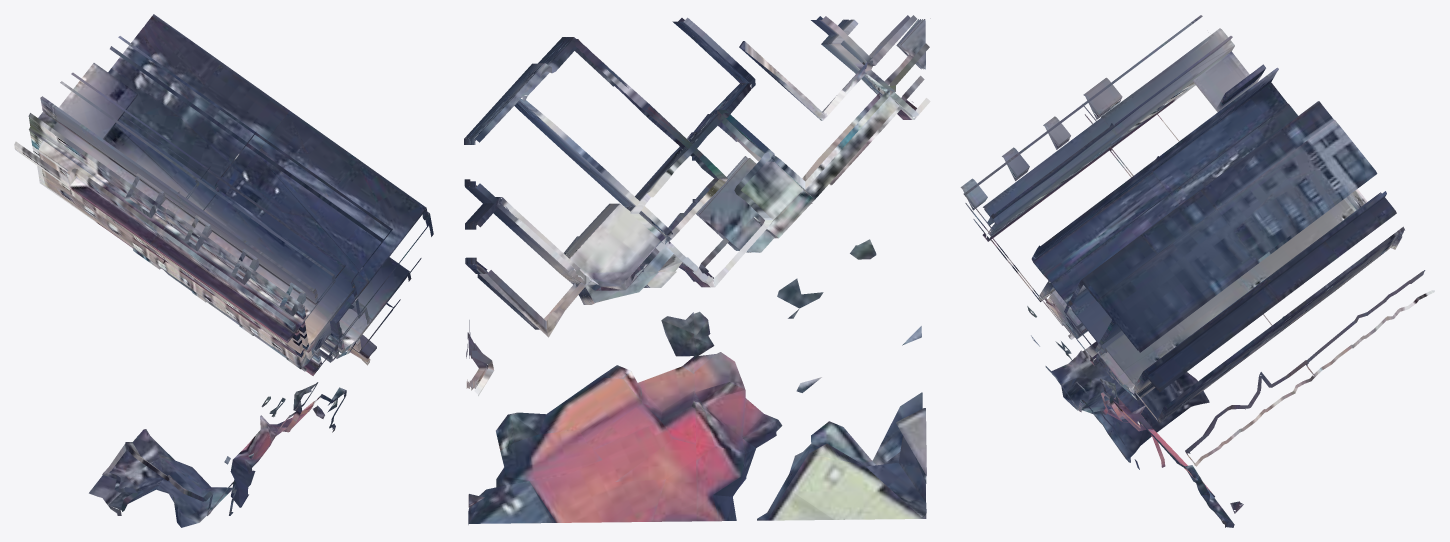
3 views of the same model, side by side, from view 1: azimuth 30°, elevation 25°; view 2: azimuth 150°, elevation 25°; view 3: azimuth 270°, elevation 25° (orthographic). The views are drawn at different scales.
Bounding box in the file's own units: 46.3 × 50.36 × 56.41.
Materials: 3 (3 with a texture image).
